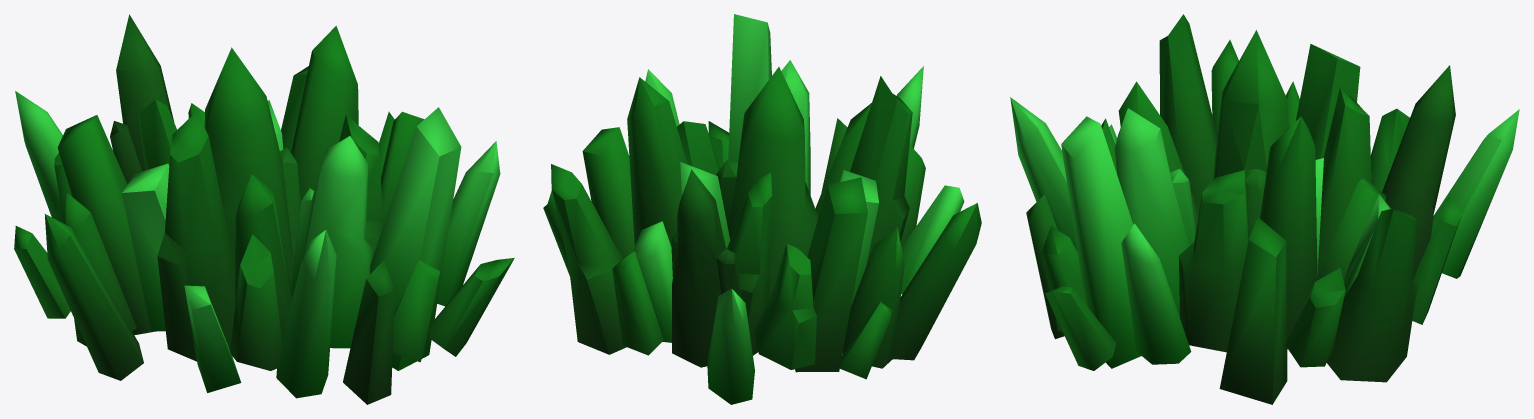
Rendered from ZLP_Crystalk_C_2.FBX.
The picture shows the model from 3 angles, left to right: view 1: azimuth 30°, elevation 25°; view 2: azimuth 150°, elevation 25°; view 3: azimuth 270°, elevation 25°; orthographic projection. The views are drawn at different scales.
Parts seen in each view (by area): view 1: ZLP_Crystalk_C_2; view 2: ZLP_Crystalk_C_2; view 3: ZLP_Crystalk_C_2.
Part boxes in pixels (x1=…): ZLP_Crystalk_C_2: x1=14, y1=14, x2=514, y2=404; ZLP_Crystalk_C_2: x1=543, y1=14, x2=981, y2=404; ZLP_Crystalk_C_2: x1=1010, y1=14, x2=1519, y2=404.
Size of the model in its own units: 300 by 204 by 323.
